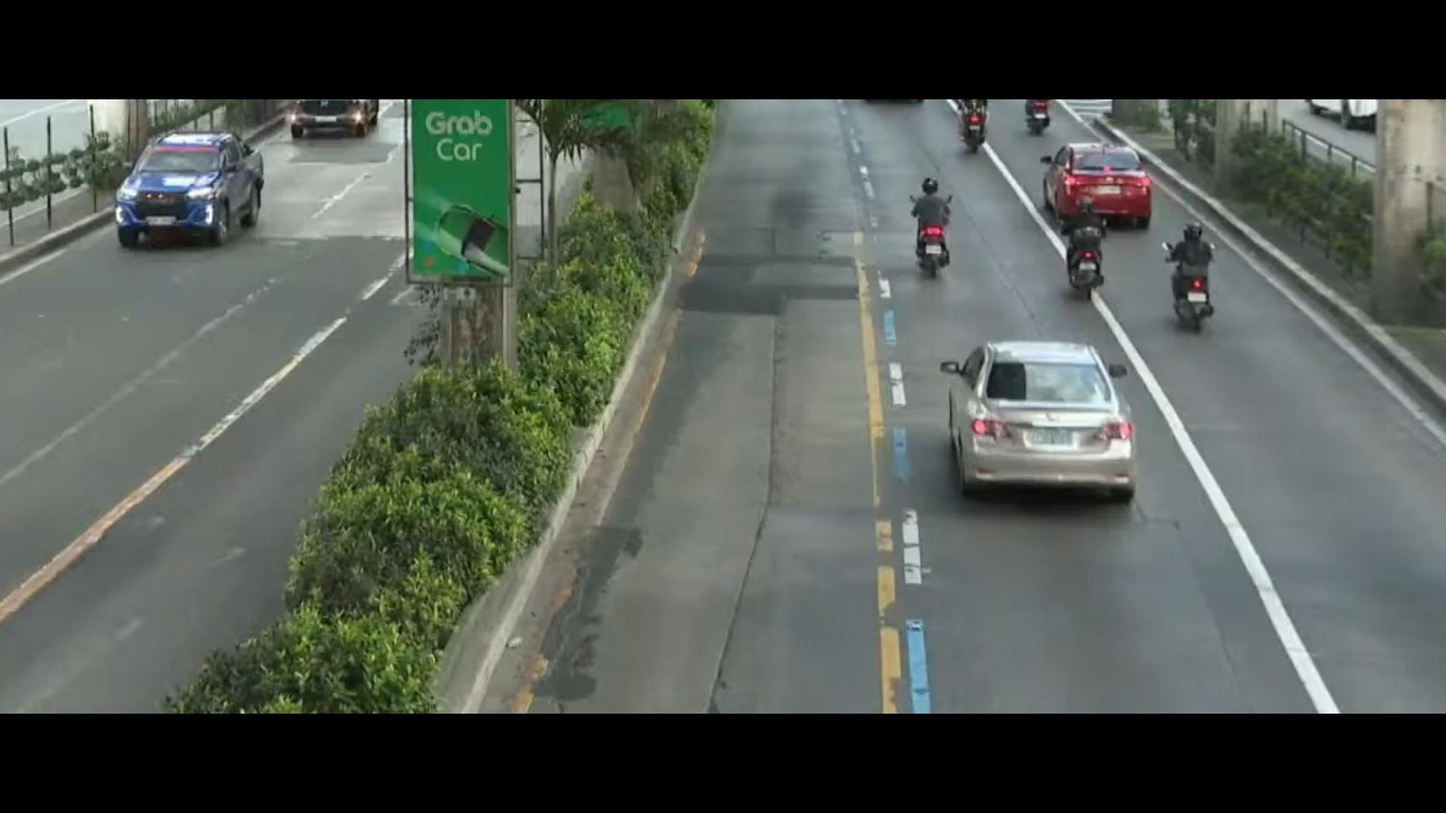Motorcycle: (1157, 215, 1241, 351), (899, 162, 970, 301), (1056, 202, 1128, 297), (944, 98, 994, 147)
Pickup: (92, 117, 277, 271)
Sedan: (923, 330, 1136, 521), (1023, 125, 1173, 247)
